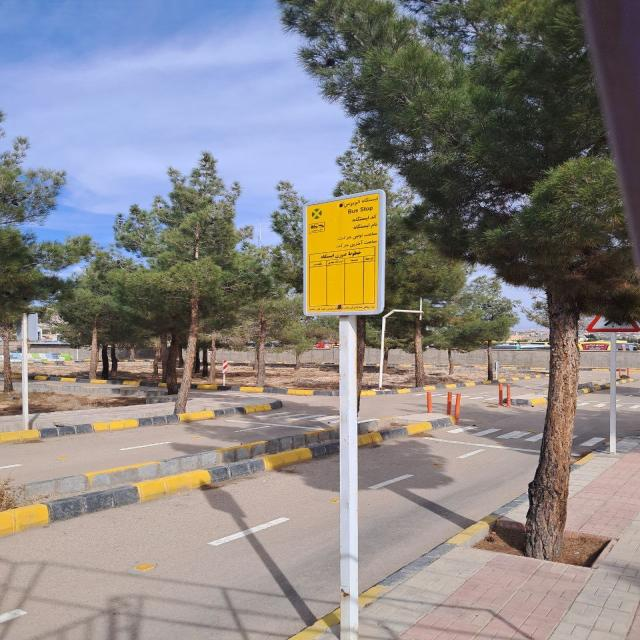bus station: (302, 198, 390, 316)
